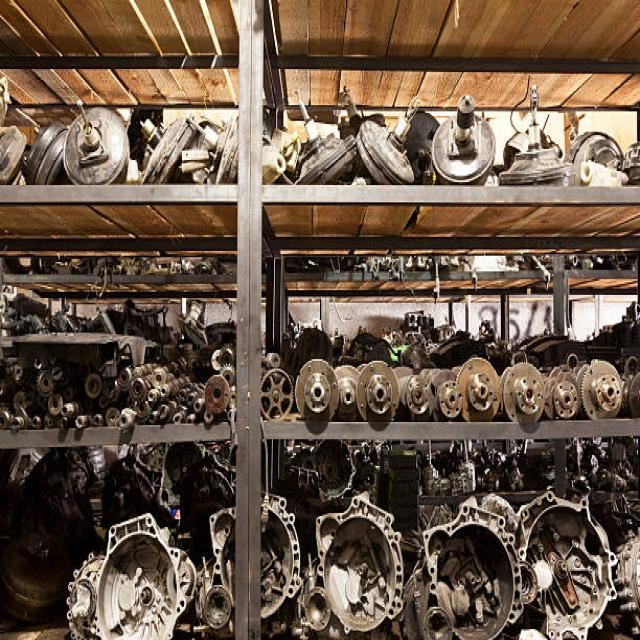metal: (314, 498, 619, 638), (288, 99, 588, 183), (302, 353, 613, 427)
